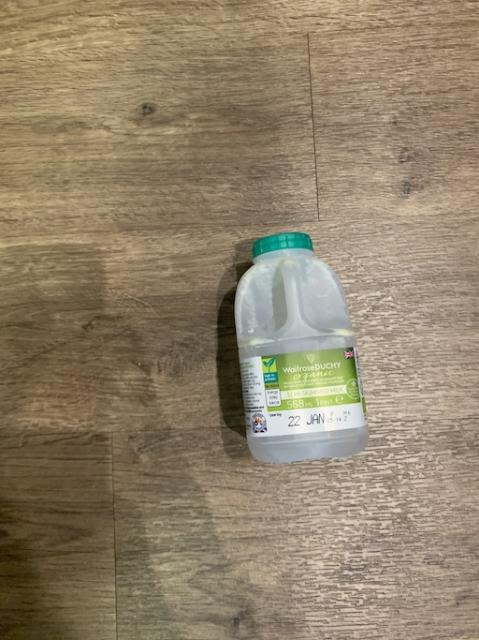plastic: (234, 231, 366, 460)
